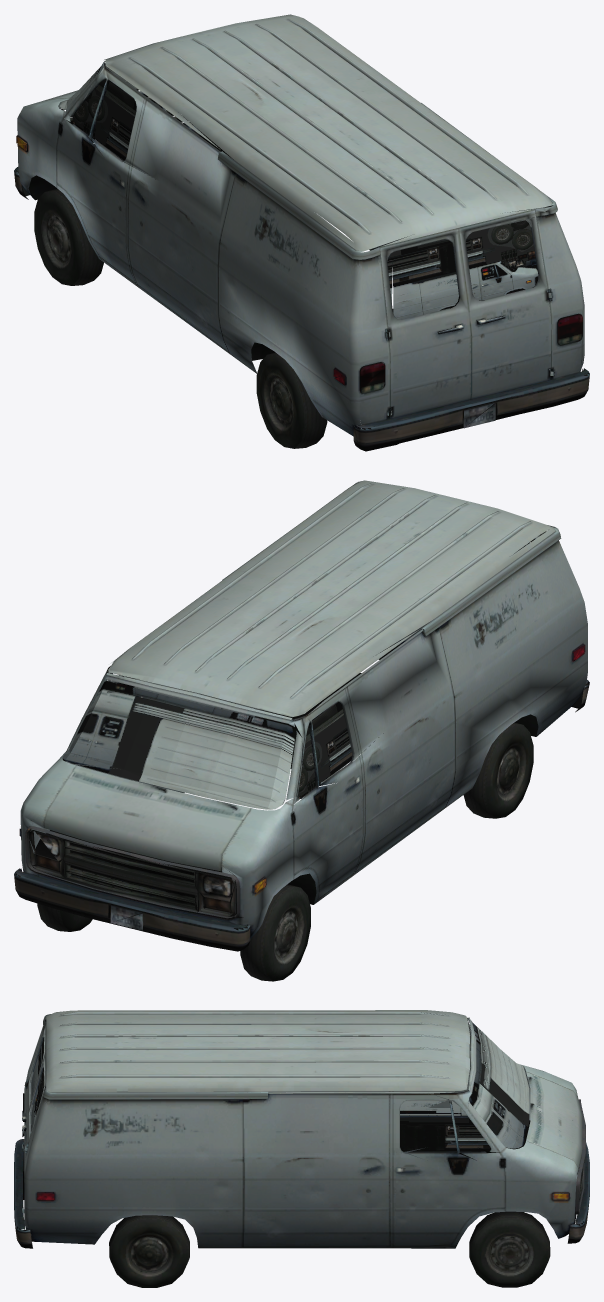
The model's file is OptimizedVan.FBX.
3 views of the same model, one above another, from view 1: azimuth 30°, elevation 25°; view 2: azimuth 150°, elevation 25°; view 3: azimuth 270°, elevation 25° (orthographic). The views are drawn at different scales.
Parts seen in each view (by area): view 1: _null_, Object002; view 2: _null_, Object002; view 3: _null_, Object002.
Part boxes in pixels (x1=…): _null_: x1=14, y1=14, x2=589, y2=451; Object002: x1=60, y1=63, x2=538, y2=319; _null_: x1=14, y1=480, x2=589, y2=981; Object002: x1=63, y1=539, x2=534, y2=809; _null_: x1=14, y1=1010, x2=589, y2=1287; Object002: x1=31, y1=1022, x2=529, y2=1152.
Bounding box in the file's own units: 2.27 × 2.3 × 5.91.
1 material, 1 textured.
